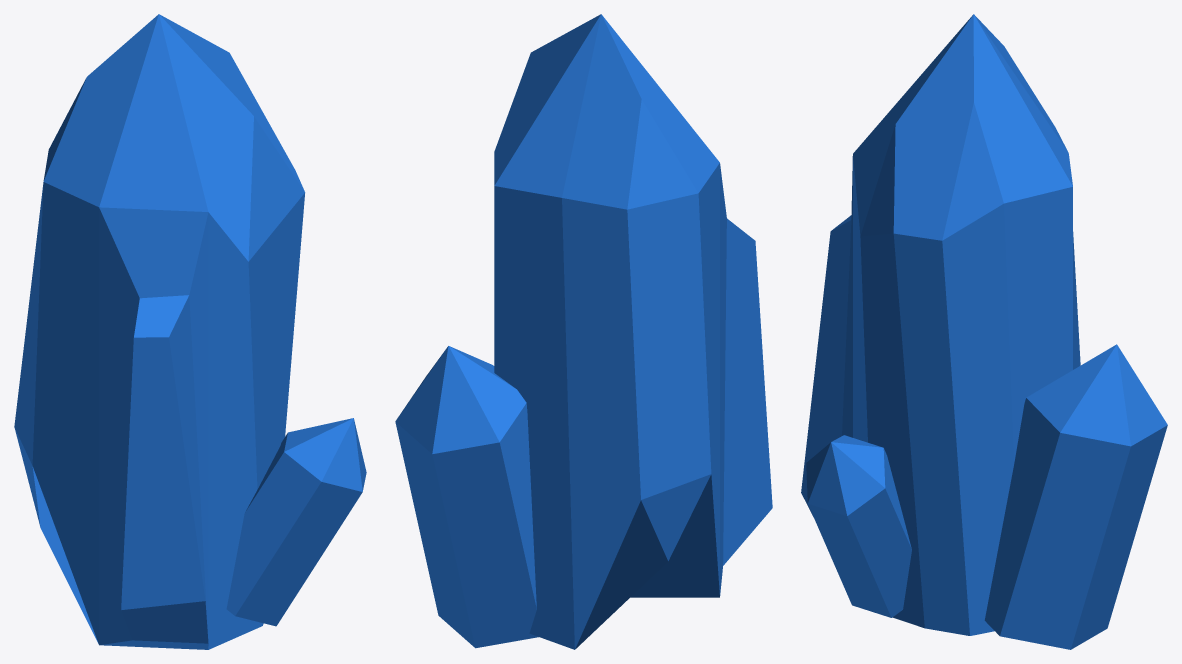
Rendered from crystal cluster_02.fbx.
3 renders of one model, left to right at view 1: azimuth 30°, elevation 25°; view 2: azimuth 150°, elevation 25°; view 3: azimuth 270°, elevation 25°, orthographic. The views are drawn at different scales.
Visible parts, largest first — view 1: pCylinder15; view 2: pCylinder15; view 3: pCylinder15.
Boxes of the visible parts, box(x1,y1,x2,y2) form: pCylinder15: box(14, 14, 366, 649); pCylinder15: box(395, 14, 772, 649); pCylinder15: box(801, 14, 1167, 649).
Bounding box in the file's own units: 0.2569 × 0.5658 × 0.3205.
